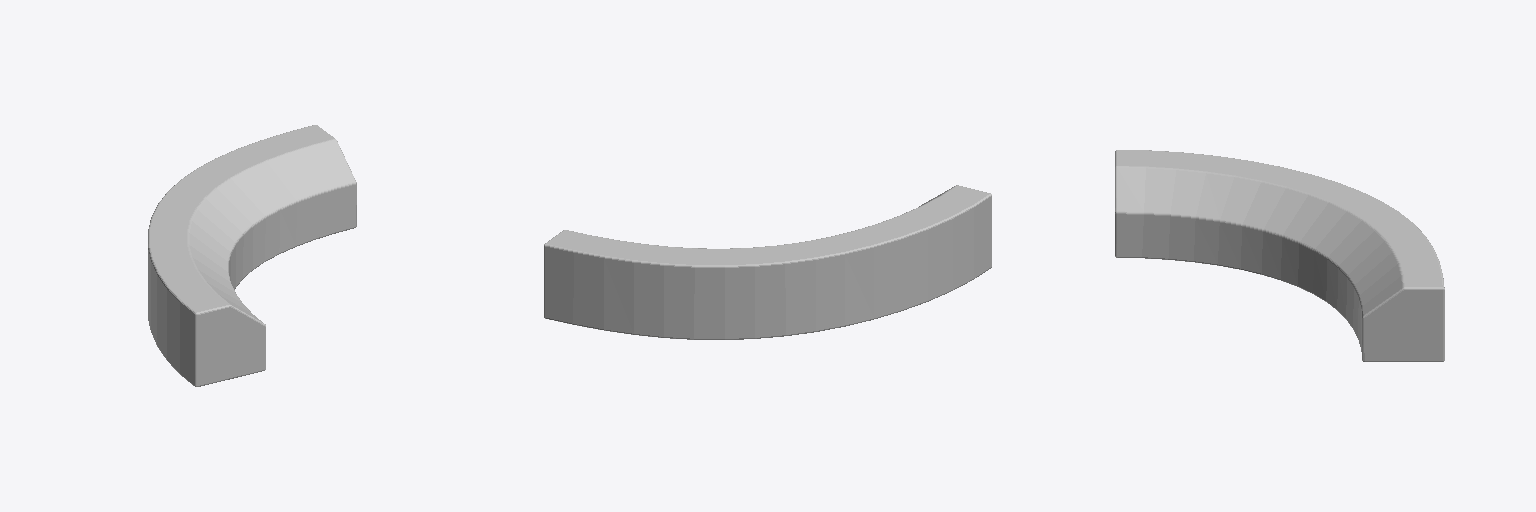
File: Outside_Bend_Hp.obj
3 renders of one model, left to right at view 1: azimuth 30°, elevation 25°; view 2: azimuth 150°, elevation 25°; view 3: azimuth 270°, elevation 25°, orthographic.
Visible parts, largest first — view 1: Outside_Bend_Hp; view 2: Outside_Bend_Hp; view 3: Outside_Bend_Hp.
Part boxes in pixels (left/top/right/bottom): Outside_Bend_Hp: left=148, top=125, right=356, bottom=386; Outside_Bend_Hp: left=544, top=185, right=991, bottom=339; Outside_Bend_Hp: left=1115, top=150, right=1444, bottom=361.
Bounding box in the file's own units: 4 × 1 × 4.